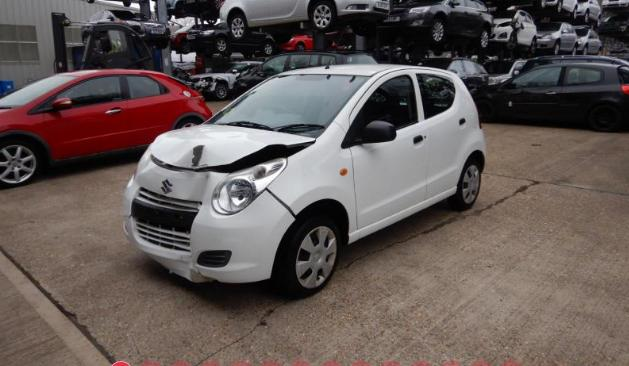Back-door: (410, 69, 474, 199)
Back-wheel: (447, 159, 482, 211)
Back-window: (417, 74, 455, 120)
Fender: (266, 121, 358, 234)
Front-bumper: (123, 145, 297, 284), (131, 187, 203, 254)
Front-door: (342, 69, 430, 230)
Front-wheel: (273, 215, 341, 300)
Front-window: (358, 76, 419, 132)
Grille: (131, 187, 202, 254)
Headlight: (212, 157, 288, 215), (130, 157, 142, 186)
Hood: (150, 124, 316, 169)
License-plate: (135, 205, 184, 229)
Mirror: (354, 120, 397, 144)
Quarter-panel: (454, 92, 487, 186)
Rocker-panel: (347, 186, 457, 246)
Roof: (275, 64, 415, 75)
Tail-light: (474, 100, 483, 129)
Windshield: (206, 75, 373, 138)
